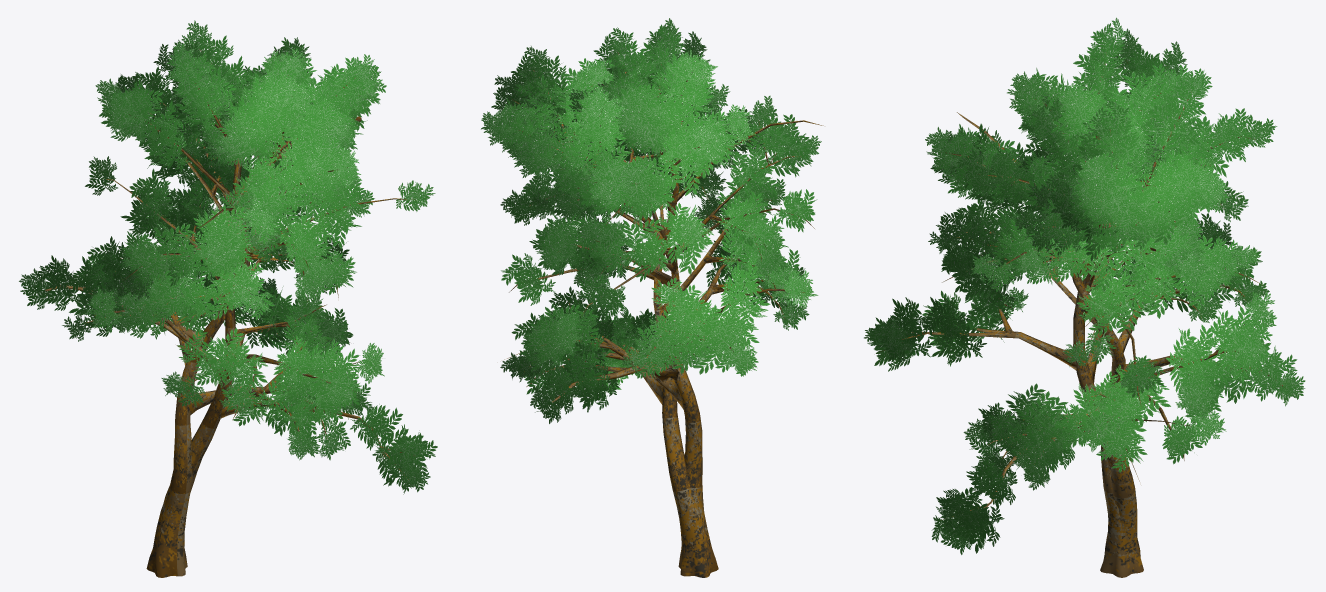
The model's file is treeSimple.fbx.
The picture shows the model from 3 angles, left to right: view 1: azimuth 30°, elevation 25°; view 2: azimuth 150°, elevation 25°; view 3: azimuth 270°, elevation 25°; orthographic projection. The views are drawn at different scales.
Parts seen in each view (by area): view 1: leaf2_1, testtrunk_0; view 2: leaf2_1, testtrunk_0; view 3: leaf2_1, testtrunk_0.
Boxes of the visible parts, x1=… form: leaf2_1: x1=19, y1=20, x2=437, y2=494; testtrunk_0: x1=44, y1=49, x2=421, y2=577; leaf2_1: x1=481, y1=18, x2=821, y2=423; testtrunk_0: x1=504, y1=52, x2=823, y2=577; leaf2_1: x1=864, y1=17, x2=1305, y2=554; testtrunk_0: x1=876, y1=52, x2=1284, y2=577.
Size of the model in its own units: 327 by 510 by 374.
